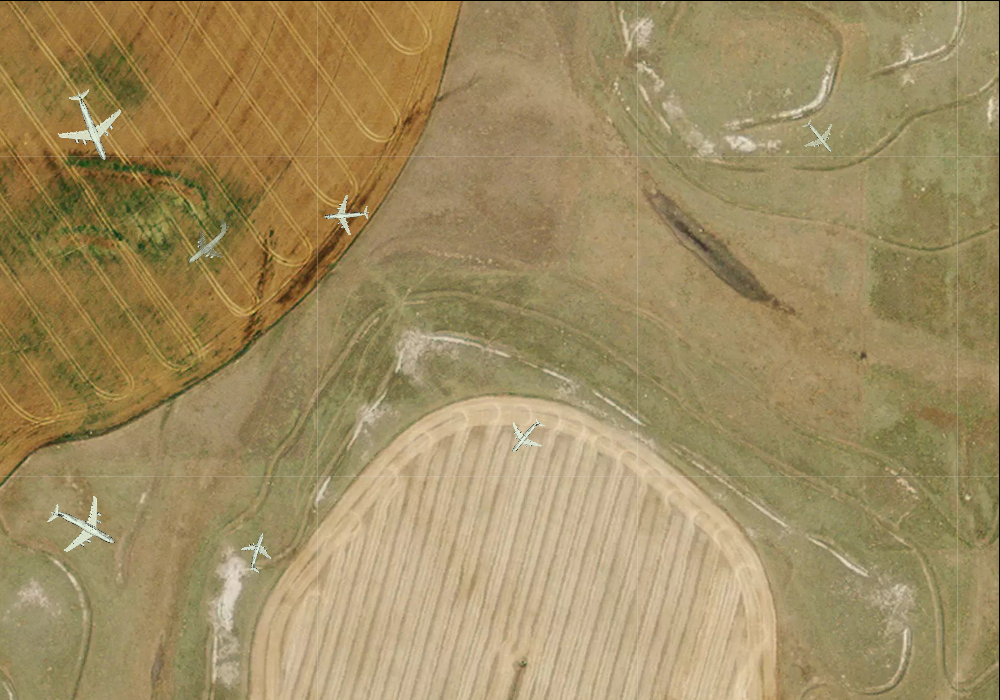plane: (35, 480, 129, 573), (45, 78, 136, 172), (171, 207, 244, 278), (497, 407, 555, 465), (791, 109, 846, 164), (234, 528, 281, 577), (322, 191, 370, 237)
